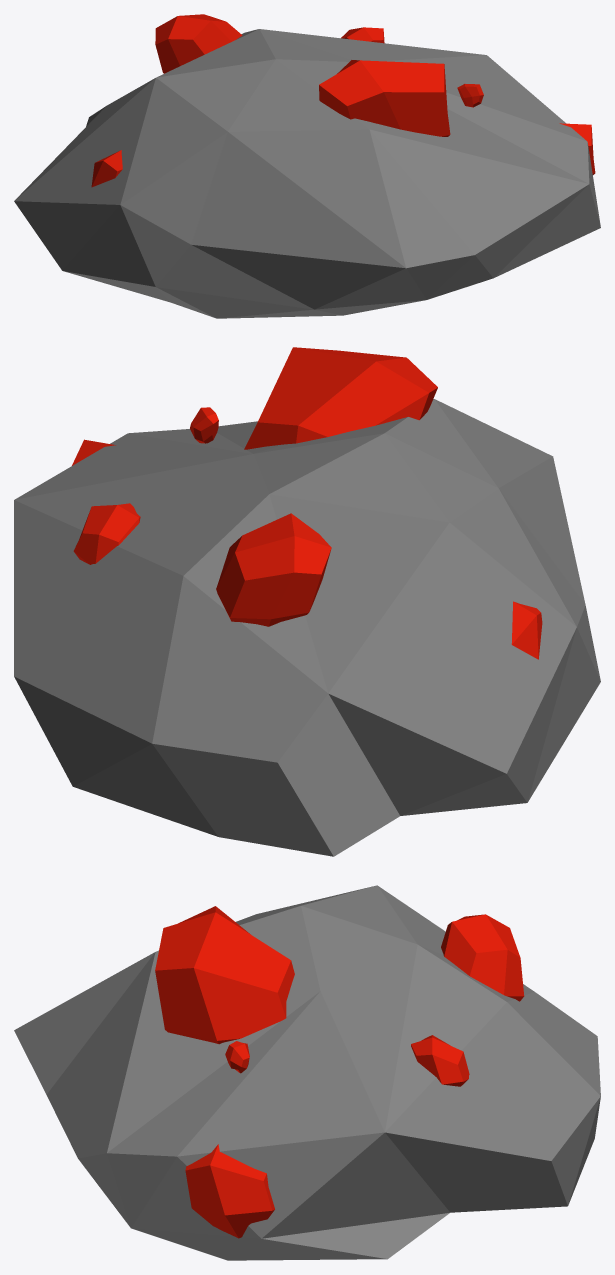
File: minerai rubis.fbx
3 renders of one model, top to bottom at view 1: azimuth 30°, elevation 25°; view 2: azimuth 150°, elevation 25°; view 3: azimuth 270°, elevation 25°, orthographic. The views are drawn at different scales.
Parts seen in each view (by area): view 1: Icosphere, Cube.001, Cube, Cube.003, Cube.004, Cube.005, Cube.002; view 2: Icosphere, Cube.001, Cube, Cube.004, Cube.003, Cube.005; view 3: Icosphere, Cube.001, Cube.002, Cube, Cube.004, Cube.005.
Boxes of the visible parts, x1,y1,x2,y2 form: Icosphere: (14, 29, 600, 318); Cube.001: (319, 60, 450, 136); Cube: (155, 14, 242, 73); Cube.003: (91, 150, 122, 187); Cube.004: (341, 27, 384, 43); Cube.005: (457, 84, 483, 107); Cube.002: (559, 123, 595, 174); Icosphere: (14, 399, 600, 856); Cube.001: (244, 347, 437, 449); Cube: (216, 513, 331, 626); Cube.004: (73, 503, 140, 564); Cube.003: (511, 601, 542, 659); Cube.005: (190, 407, 218, 443); Icosphere: (14, 885, 600, 1260); Cube.001: (155, 906, 294, 1044); Cube.002: (185, 1144, 274, 1238); Cube: (441, 914, 524, 1001); Cube.004: (411, 1035, 469, 1086); Cube.005: (225, 1041, 249, 1073).
Size of the model in its own units: 61.77 by 32.3 by 61.88.
